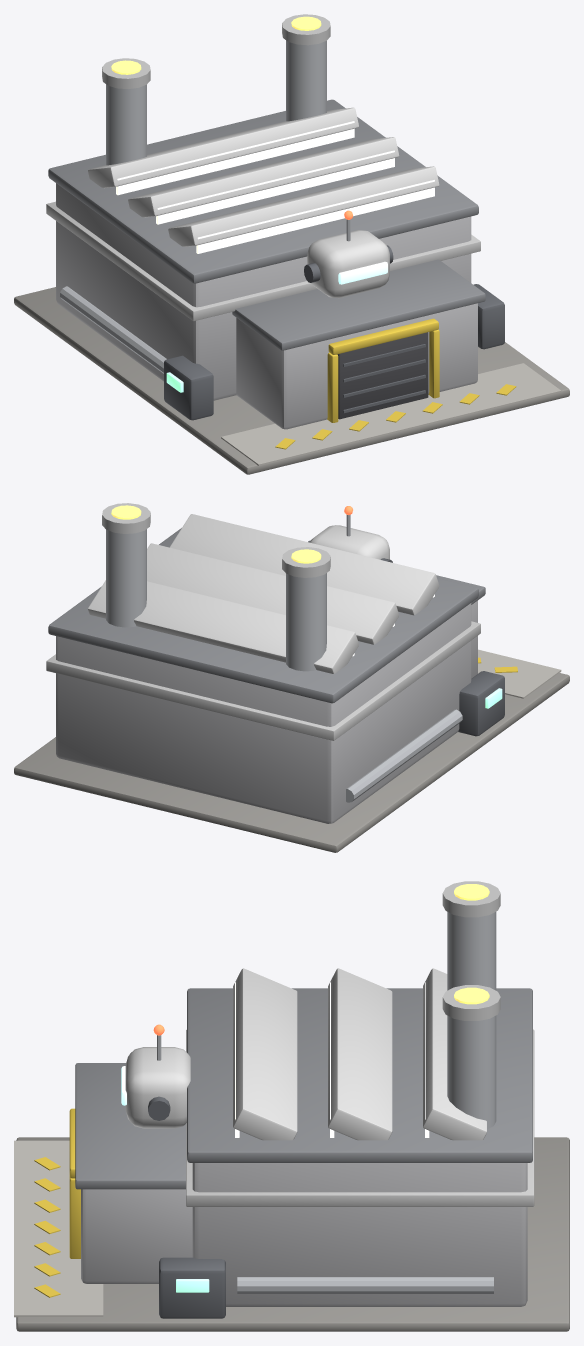
File: robot_factory.glb
3 views of the same model, one above another, from view 1: azimuth 30°, elevation 25°; view 2: azimuth 150°, elevation 25°; view 3: azimuth 270°, elevation 25° (orthographic). The views are drawn at different scales.
Visible parts, largest first — view 1: robot_factory; view 2: robot_factory; view 3: robot_factory.
Boxes of the visible parts, x1,y1,x2,y2 form: robot_factory: (14,14,569,474); robot_factory: (14,503,569,852); robot_factory: (14,881,569,1331).
Bounding box in the file's own units: 3.96 × 2.93 × 4.98.
